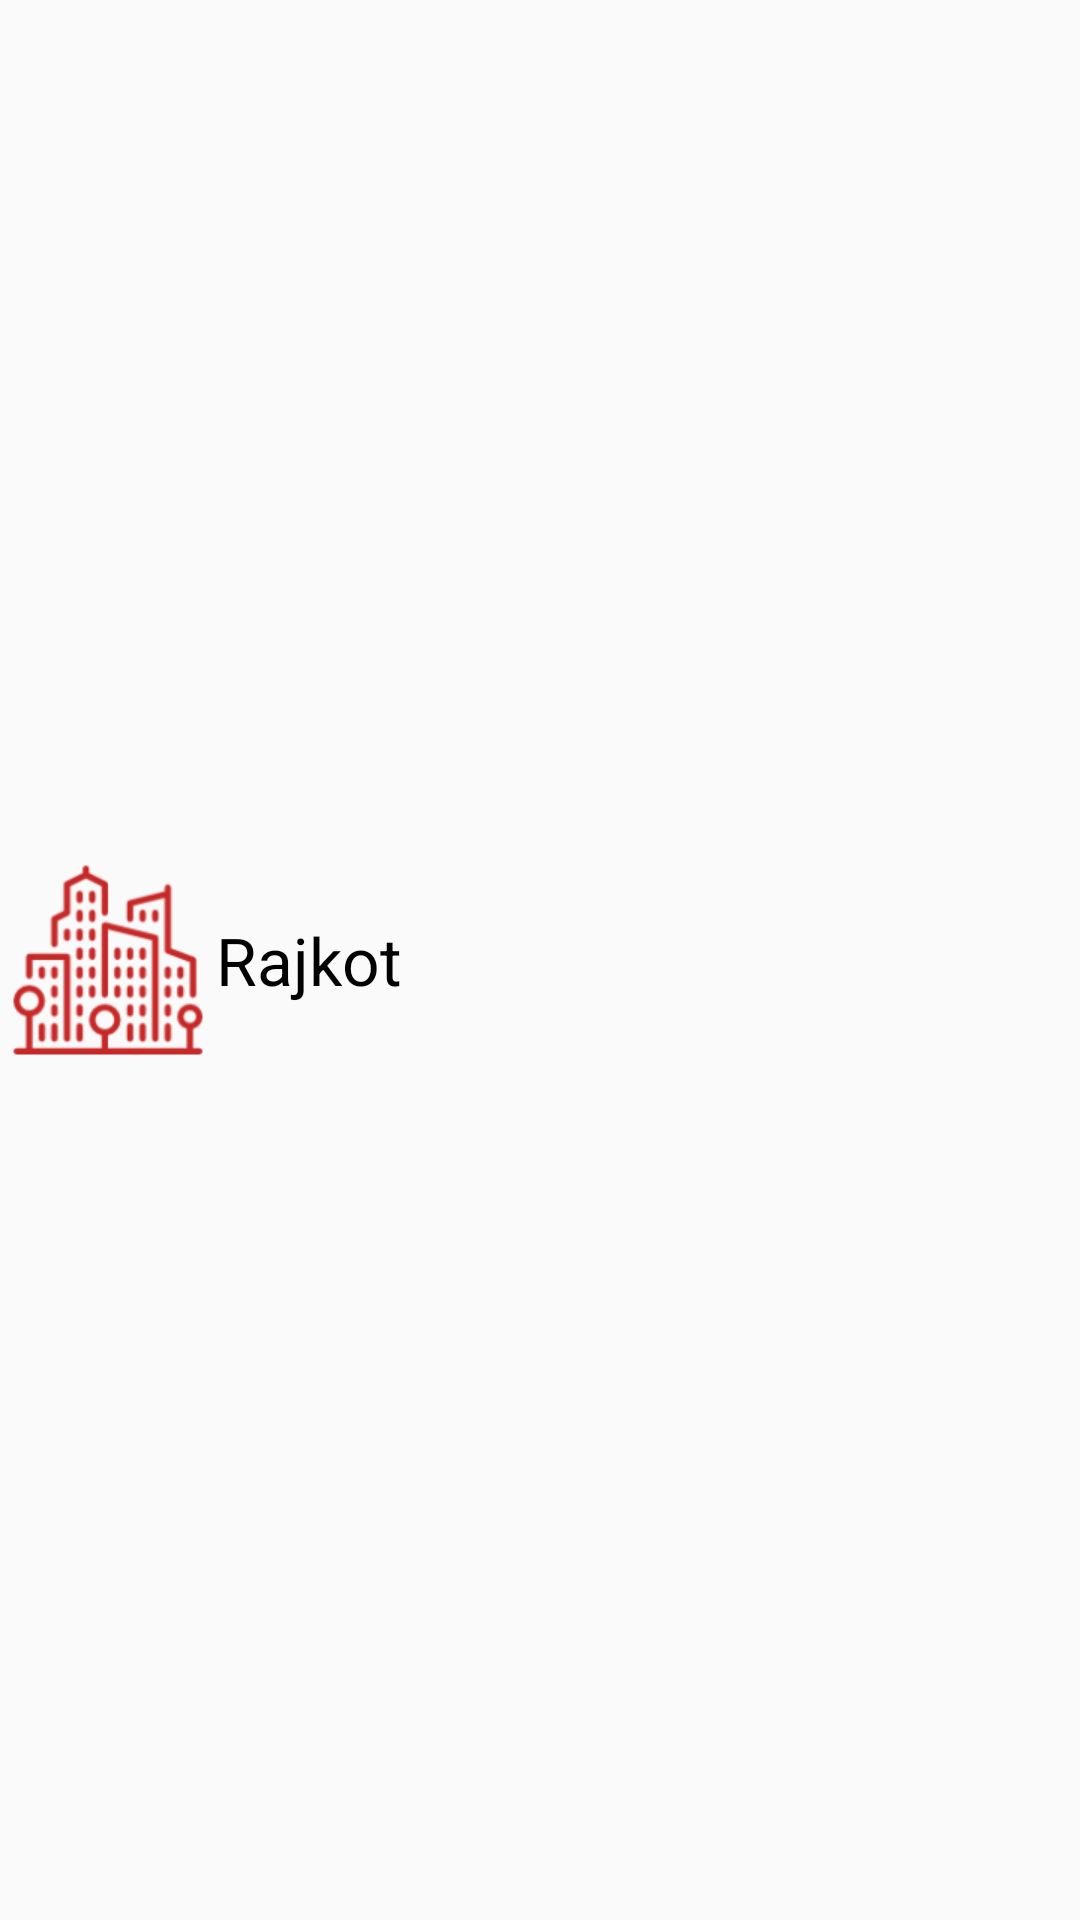

Screen size 1080*1920. Icon name, then its box in pixels as (x1, y1, x2, y2):
city: (13, 865, 203, 1055)
